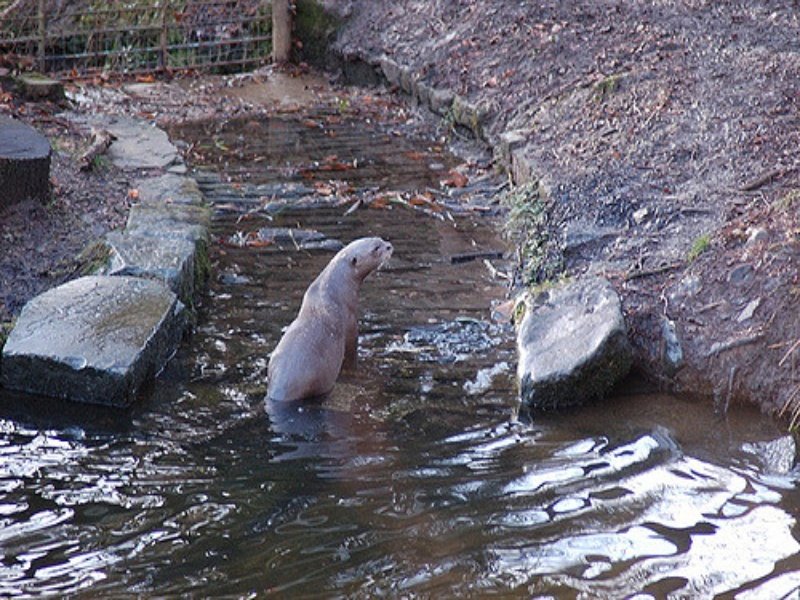minkish: (262, 236, 393, 416)
